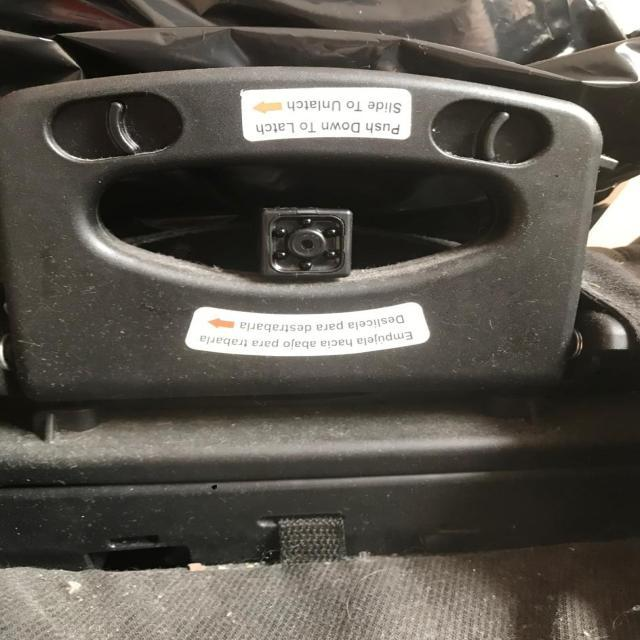hidden camera: (289, 232, 326, 258)
